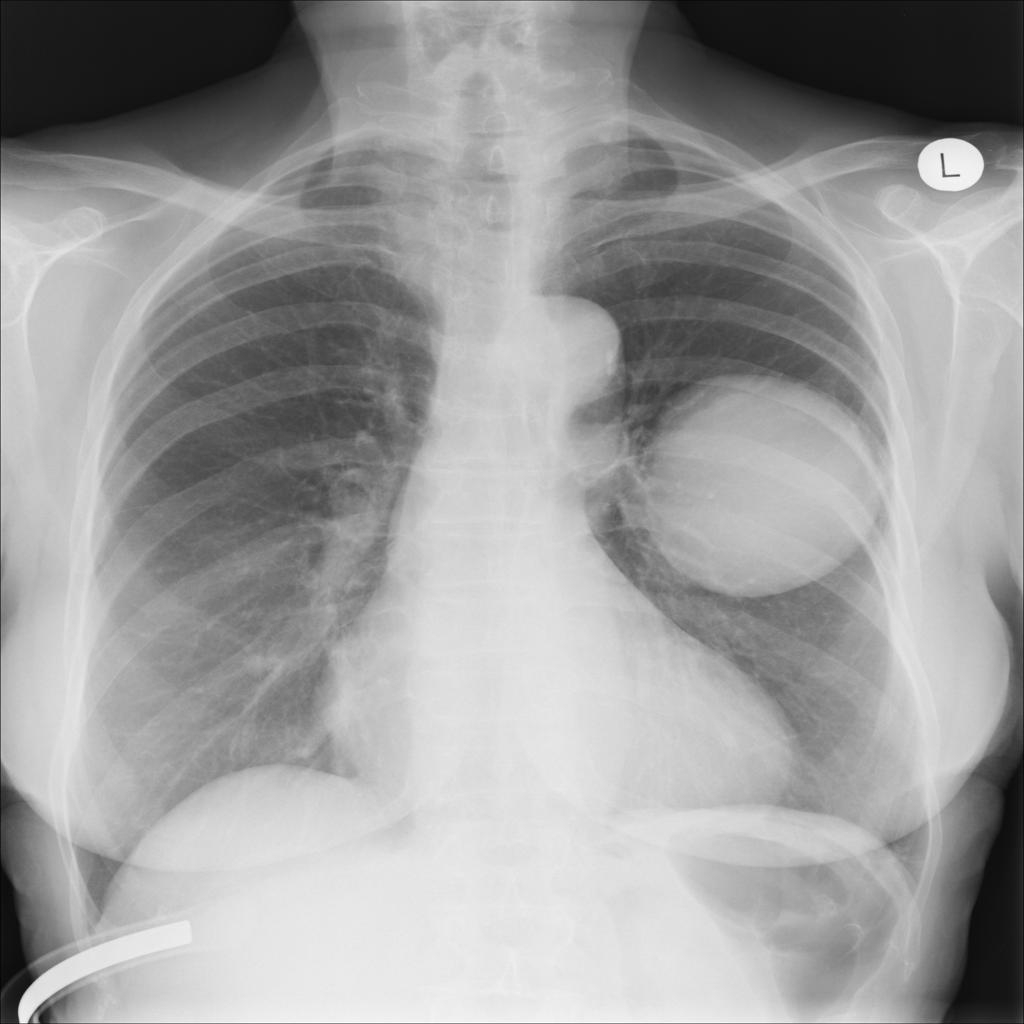nodule: (630, 375, 891, 581)
